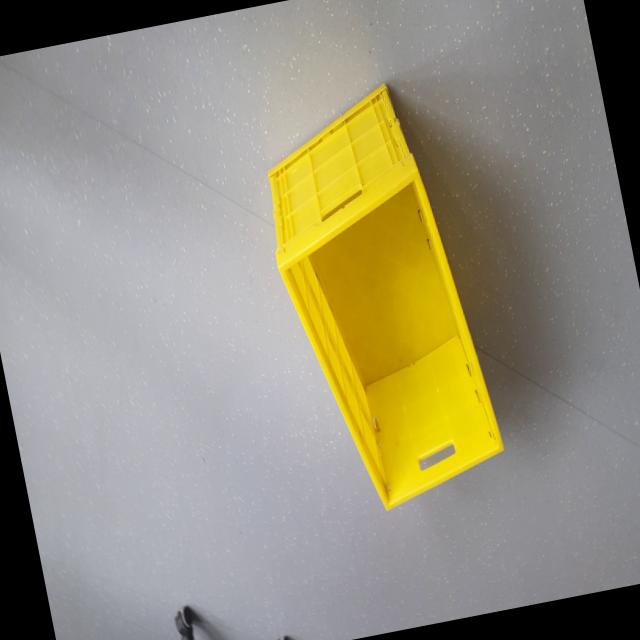box: (244, 64, 523, 540)
